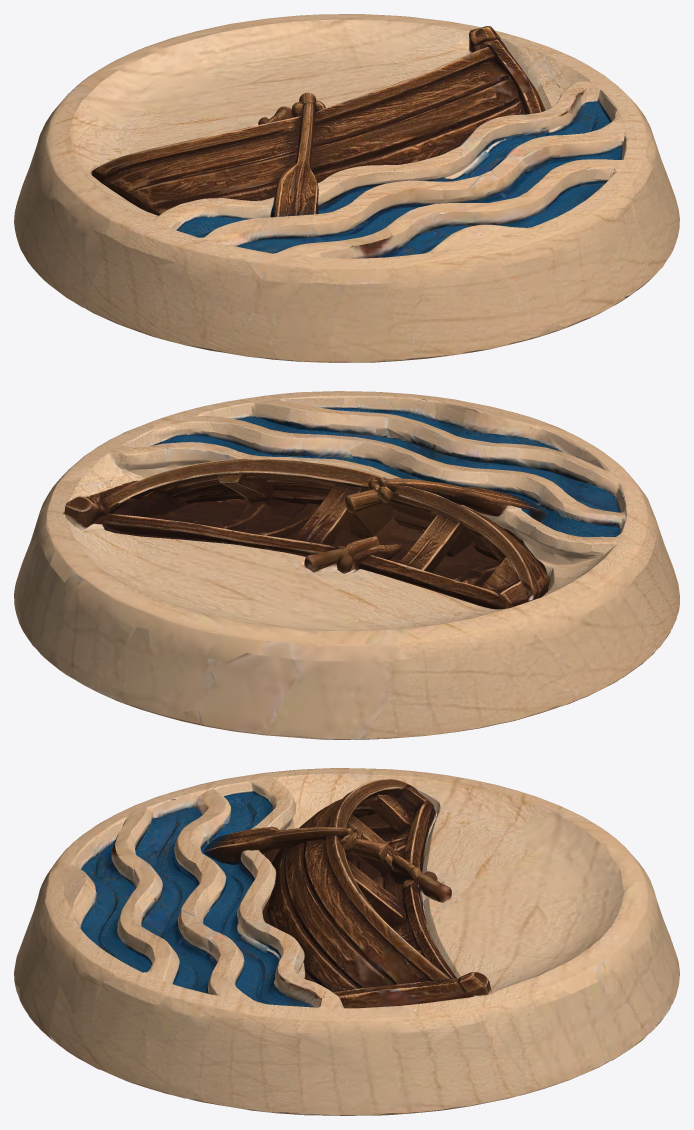
File: BARQUE.glb
The picture shows the model from 3 angles, top to bottom: view 1: azimuth 30°, elevation 25°; view 2: azimuth 150°, elevation 25°; view 3: azimuth 270°, elevation 25°; orthographic projection.
Visible parts, largest first — view 1: Mesh_0; view 2: Mesh_0; view 3: Mesh_0.
Boxes of the visible parts, x1,y1,x2,y2 form: Mesh_0: (14, 14, 679, 362); Mesh_0: (14, 391, 679, 739); Mesh_0: (14, 768, 679, 1115).
Size of the model in its own units: 1.9 by 0.4112 by 1.9.
1 material, 1 textured.
